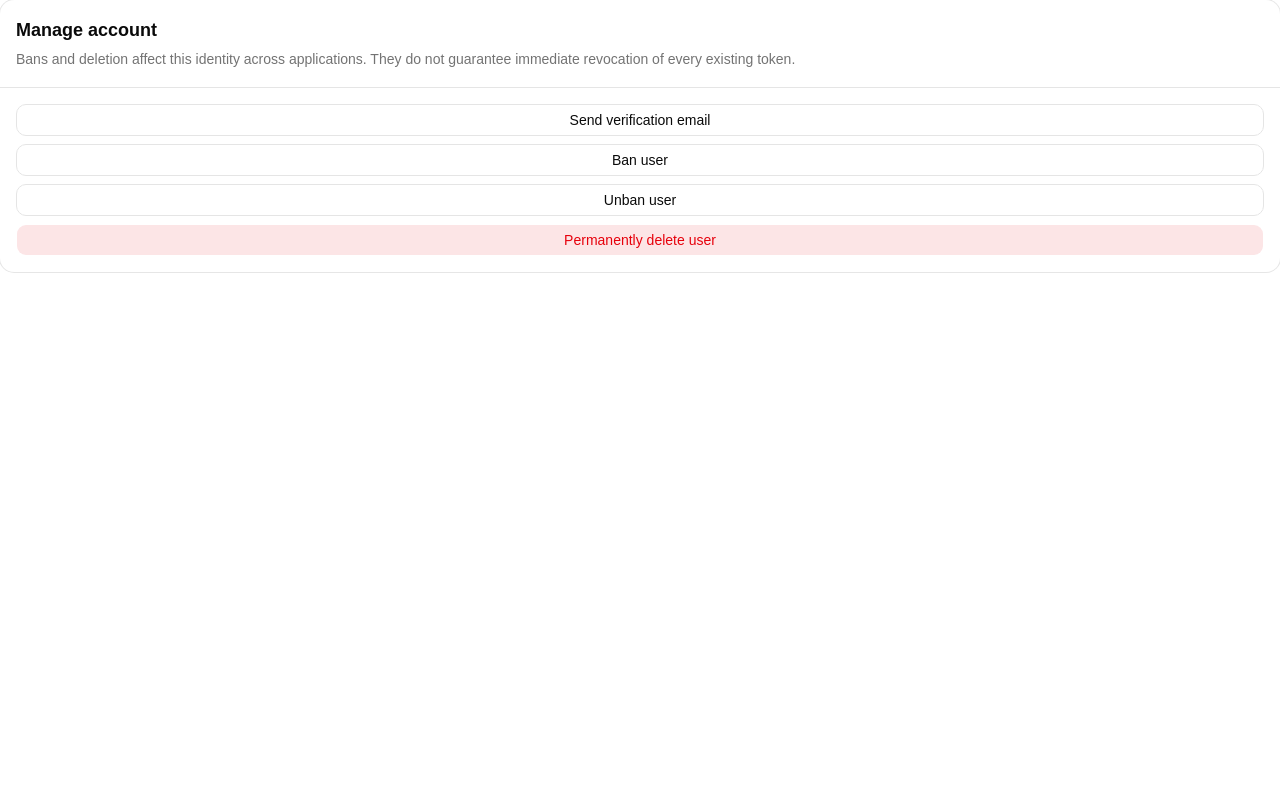
Test: confirmed global mutations › cancel sends no mutation
The image size is (1280, 800).
Click the button "Permanently delete user": (640, 240) [16,224,1264,256]
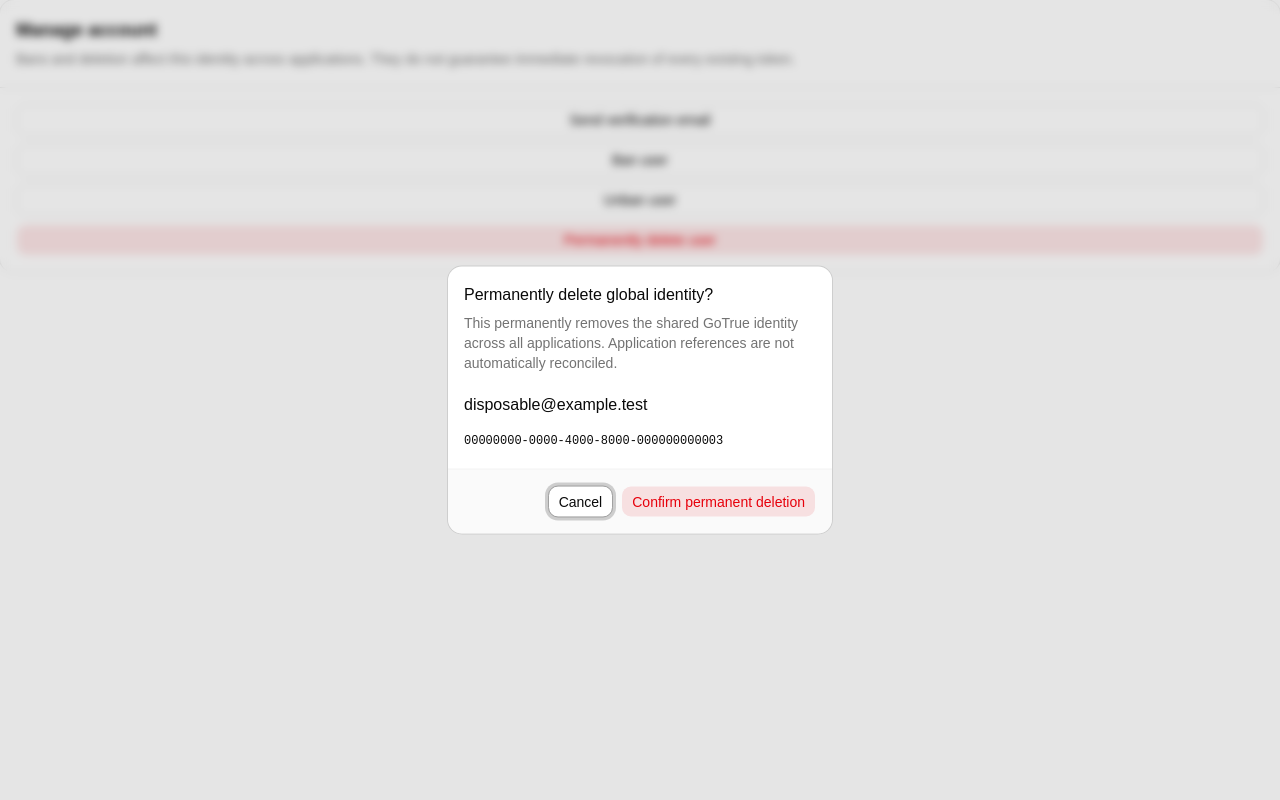
Result: the dialog shows "00000000-0000-4000-8000-000000000003" at [464,434,723,448]
Result: the dialog shows "shared GoTrue identity" at [464,314,798,370]
Click the button "Cancel": (580, 502) [548,486,613,518]
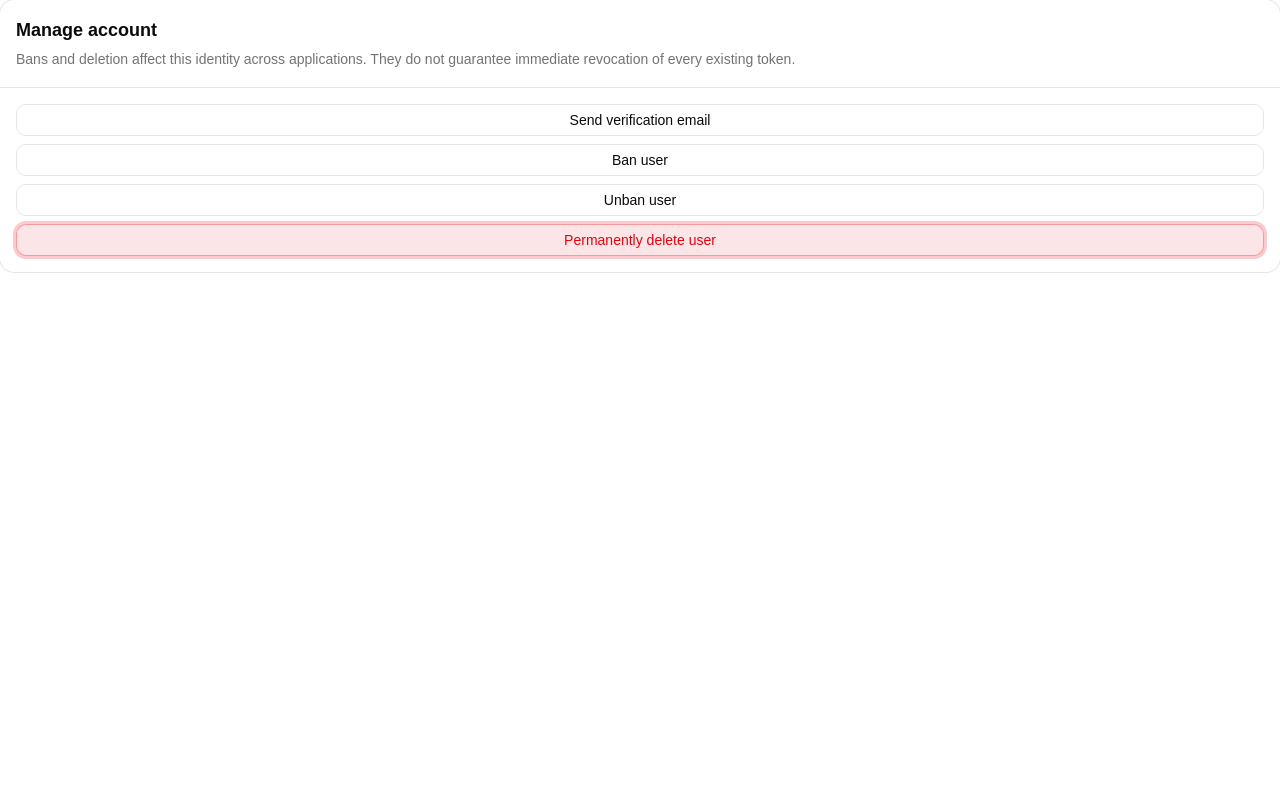
Result: the dialog is gone
